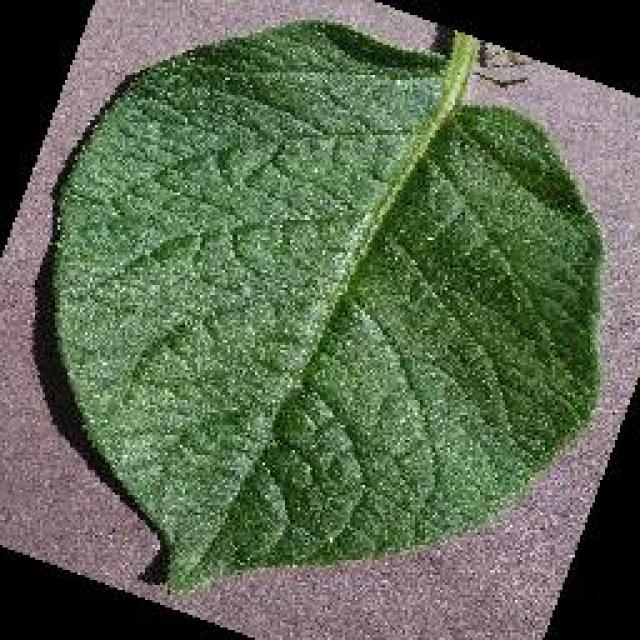Potato___healthy: (46, 13, 605, 603)
